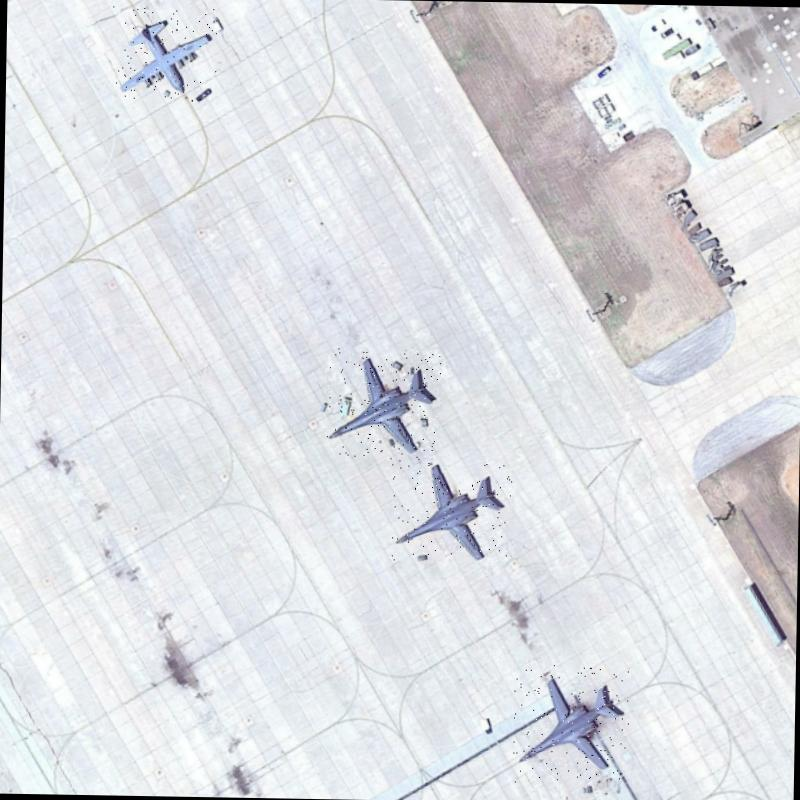A10: (512, 663, 630, 784), (324, 348, 441, 460), (390, 460, 512, 563)
A2: (111, 5, 217, 103)
